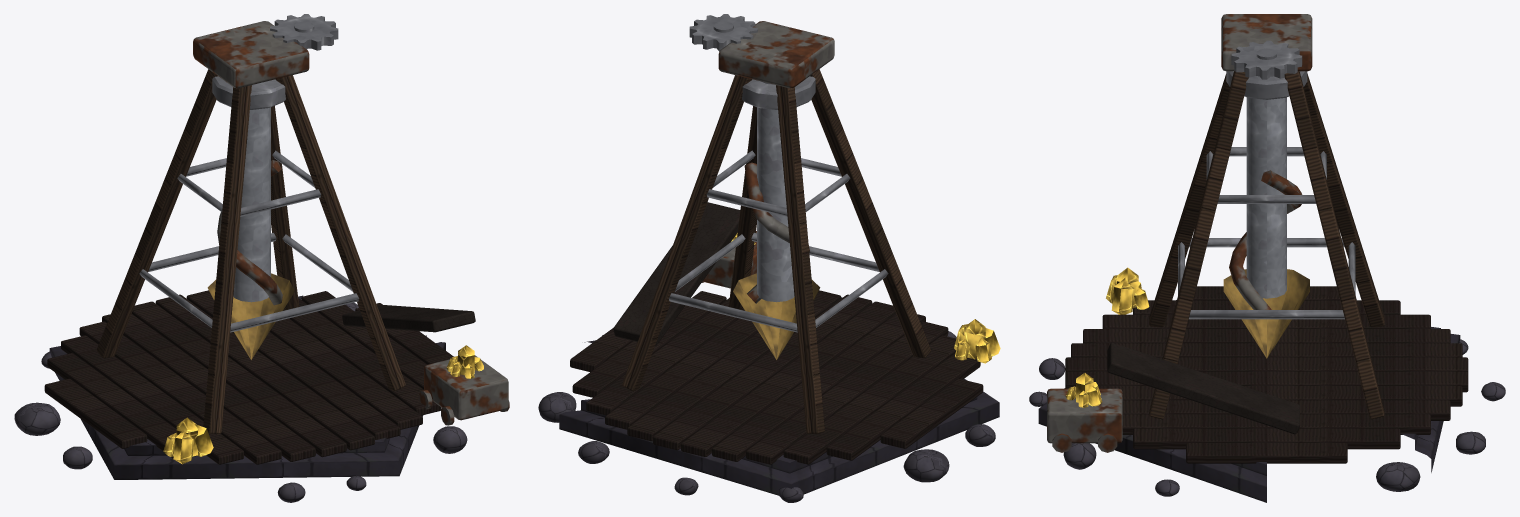
File: deepdrill.glb
3 views of the same model, side by side, from view 1: azimuth 30°, elevation 25°; view 2: azimuth 150°, elevation 25°; view 3: azimuth 270°, elevation 25° (orthographic). The views are drawn at different scales.
Parts seen in each view (by area): view 1: Base, Drill; view 2: Base, Drill; view 3: Base, Drill.
Part boxes in pixels (<box>): Base: <box>14,14,509,502</box>; Drill: <box>207,76,294,359</box>; Base: <box>538,14,1000,502</box>; Drill: <box>733,76,820,359</box>; Base: <box>1029,14,1505,502</box>; Drill: <box>1223,71,1309,358</box>.
Size of the model in its own units: 1.88 by 1.69 by 1.89.
Materials: 10 (10 with a texture image).
